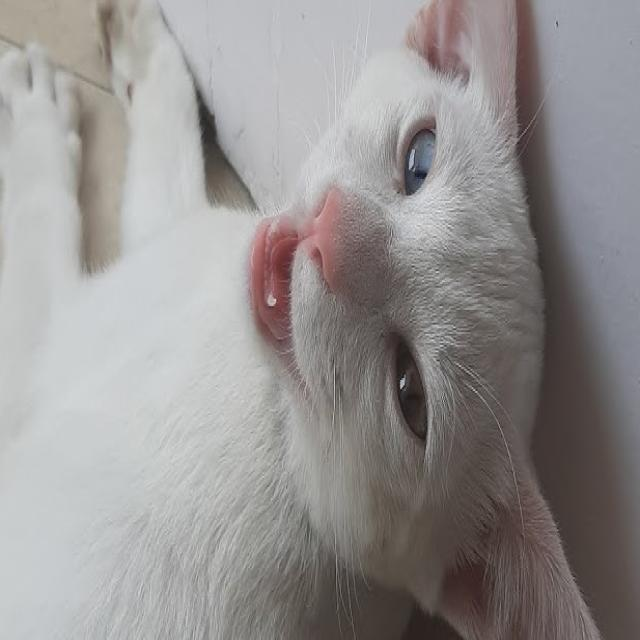Khao Manee: (0, 0, 620, 640)
